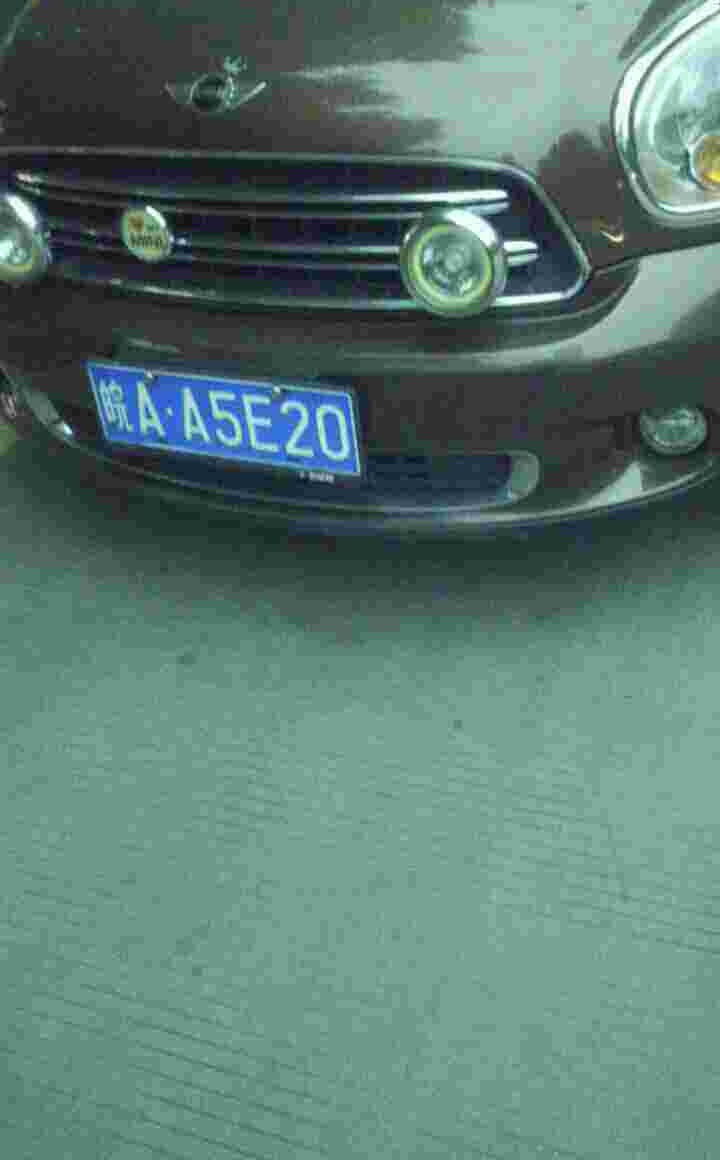license_plate: (95, 362, 347, 475)
